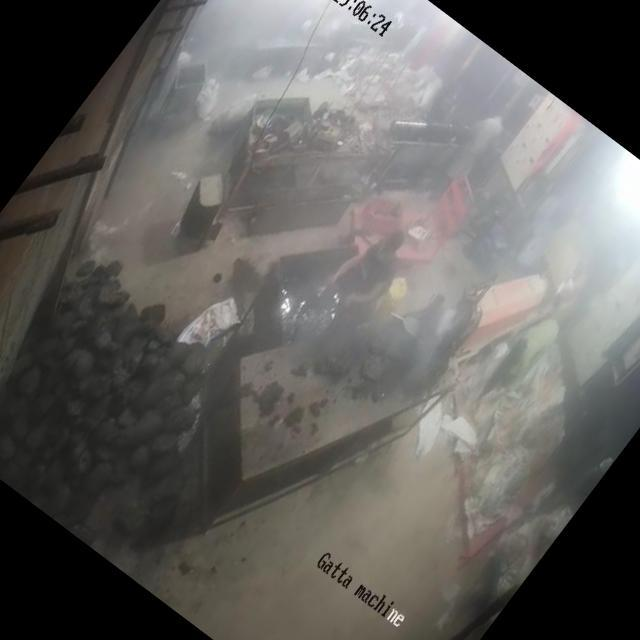person: (322, 222, 422, 332), (498, 312, 566, 389)
